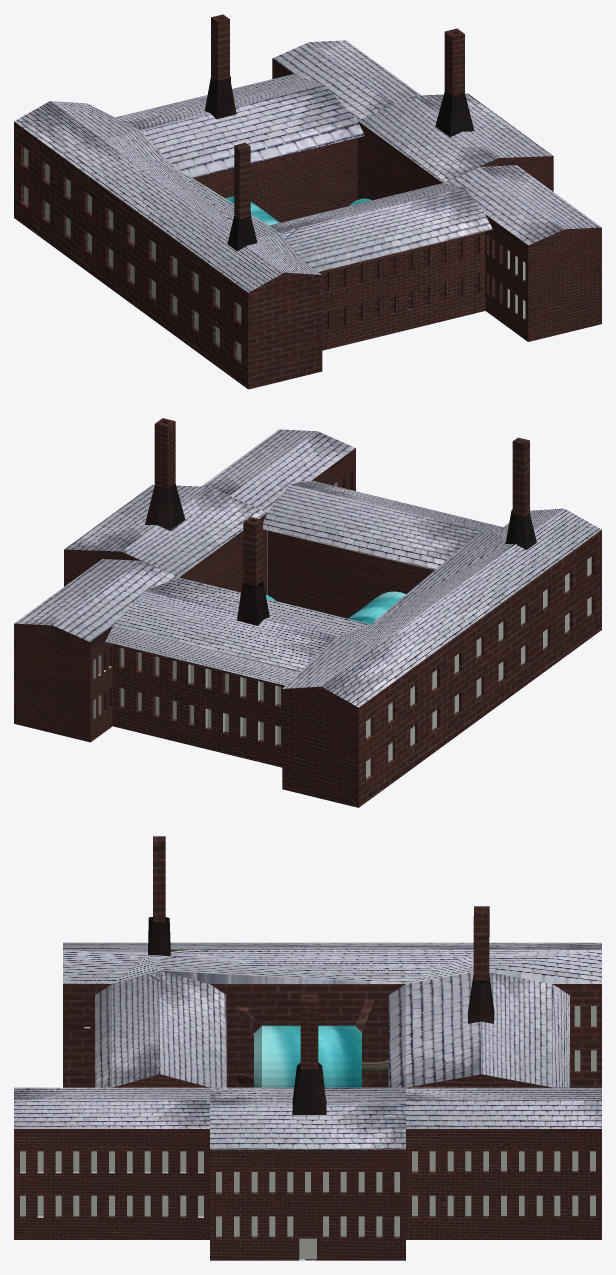
File: boomShop.fbx
3 views of the same model, one above another, from view 1: azimuth 30°, elevation 25°; view 2: azimuth 150°, elevation 25°; view 3: azimuth 270°, elevation 25° (orthographic). The views are drawn at different scales.
Visible parts, largest first — view 1: BuildingC, BuildingL, BuildingE, BuildingR; view 2: BuildingC, BuildingR, BuildingE, BuildingL; view 3: BuildingC, BuildingE, BuildingR, BuildingL.
Boxes of the visible parts, left/top/right/bottom form: BuildingC: left=14, top=14, right=492, bottom=389; BuildingL: left=443, top=165, right=601, bottom=341; BuildingE: left=349, top=28, right=553, bottom=205; BuildingR: left=272, top=40, right=420, bottom=120; BuildingC: left=105, top=437, right=601, bottom=807; BuildingR: left=14, top=559, right=178, bottom=742; BuildingE: left=64, top=418, right=275, bottom=600; BuildingL: left=201, top=429, right=355, bottom=594; BuildingC: left=63, top=836, right=601, bottom=1087; BuildingE: left=210, top=994, right=405, bottom=1260; BuildingR: left=406, top=1087, right=601, bottom=1239; BuildingL: left=14, top=1087, right=209, bottom=1239.
Size of the model in its own units: 1000 by 529 by 1200.
